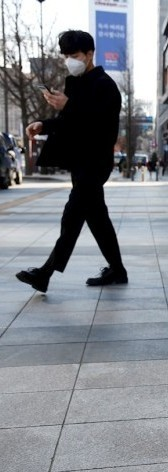with_mask: (53, 31, 96, 76)
